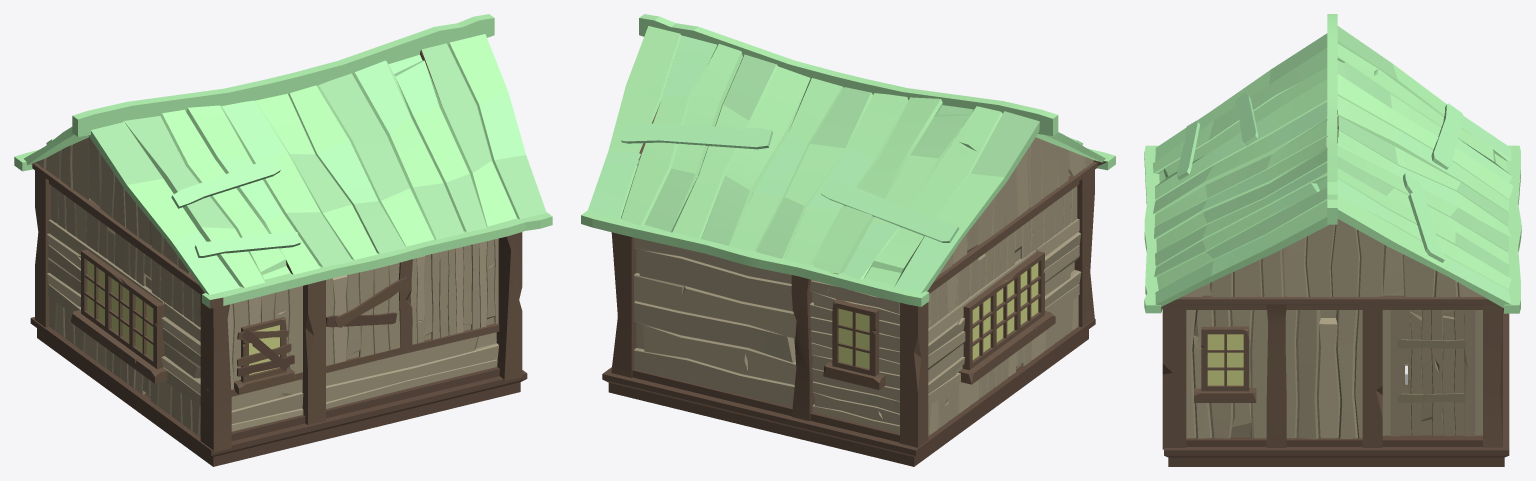
The model's file is greencoloringhouse1.fbx.
3 renders of one model, left to right at view 1: azimuth 30°, elevation 25°; view 2: azimuth 150°, elevation 25°; view 3: azimuth 270°, elevation 25°, orthographic. The views are drawn at different scales.
Visible parts, largest first — view 1: House_1_Roof.016, House.014; view 2: House_1_Roof.016, House.014; view 3: House_1_Roof.016, House.014.
Part boxes in pixels (x1,y1,x2,y2): House_1_Roof.016: (14, 14, 552, 308); House.014: (30, 170, 527, 466); House_1_Roof.016: (581, 14, 1115, 306); House.014: (602, 170, 1095, 466); House_1_Roof.016: (1144, 14, 1521, 313); House.014: (1162, 304, 1509, 466).
Bounding box in the file's own units: 573 × 395 × 471.
